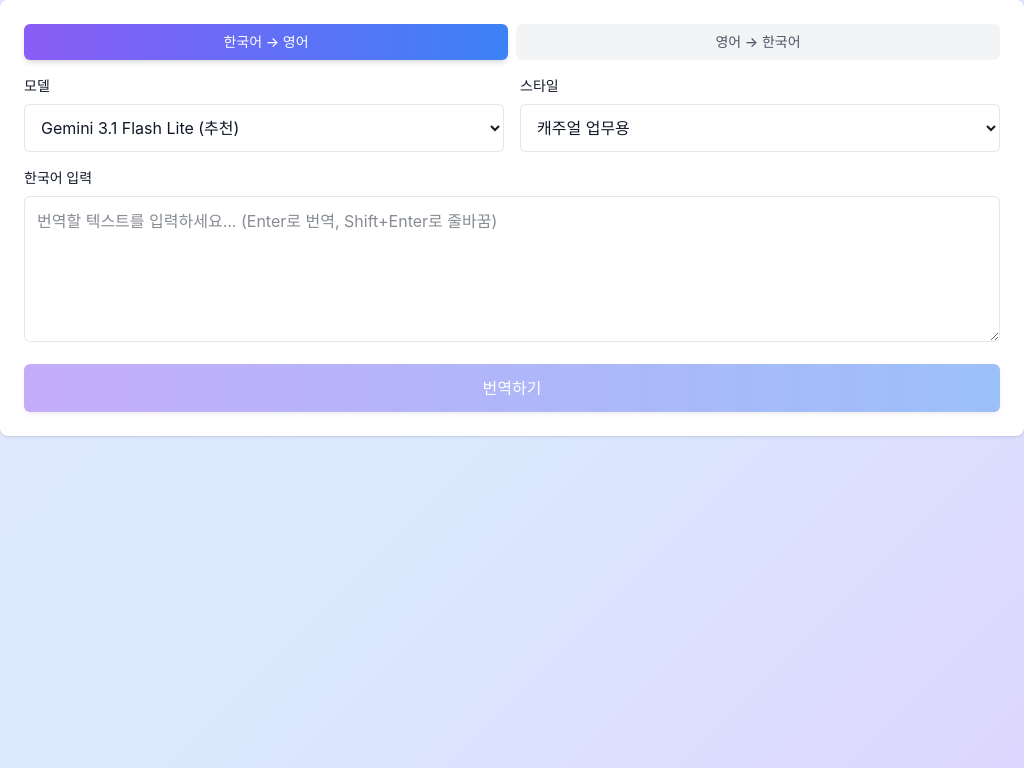
it: HomePage auto-copy (B1 + W8) › does not auto-copy when auto_copy is disabled
Step 1. Type "확인 부탁해" into the text box with placeholder "번역할 텍스트를 입력하세요... (Enter로 번역, Shift+Enter로 줄바꿈)" → coordinates (512, 269), box [24,196,1000,342]
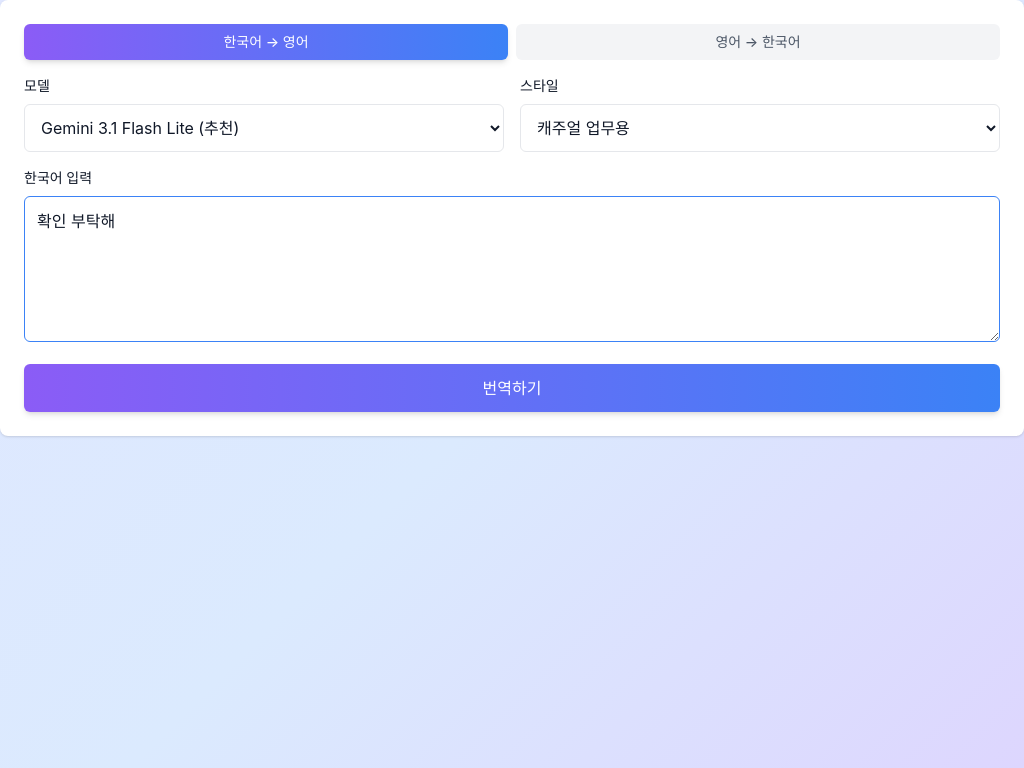
Step 2. Press Enter
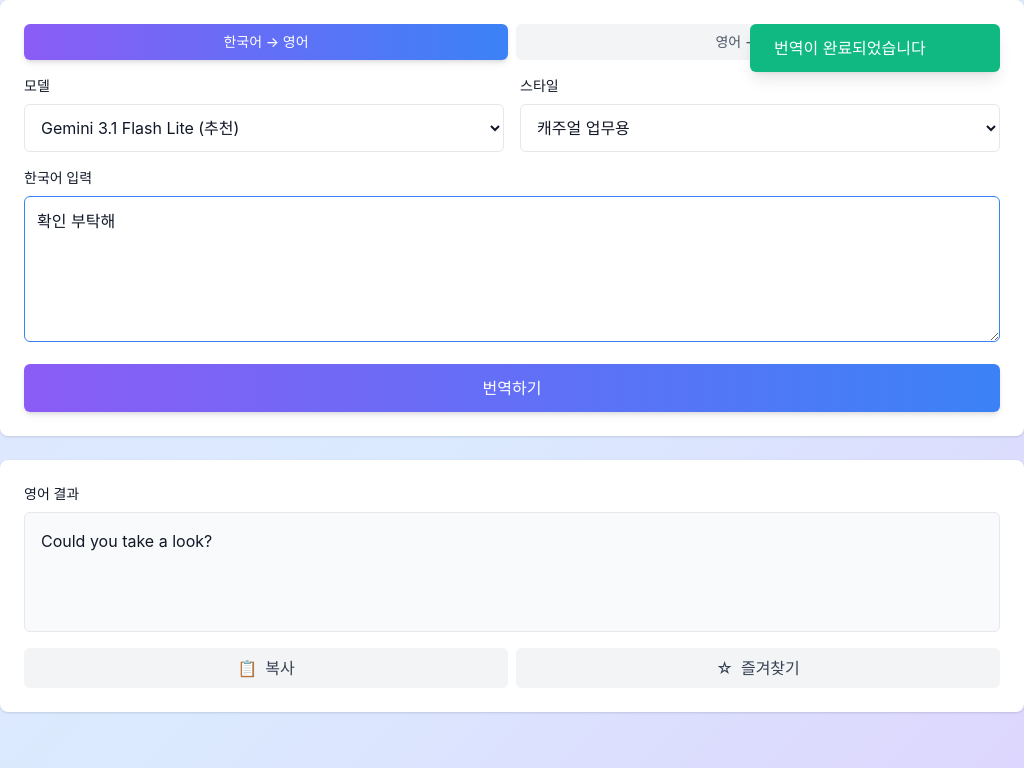
Check: the text "Could you take a look?" is shown, box [24,512,1000,632]
